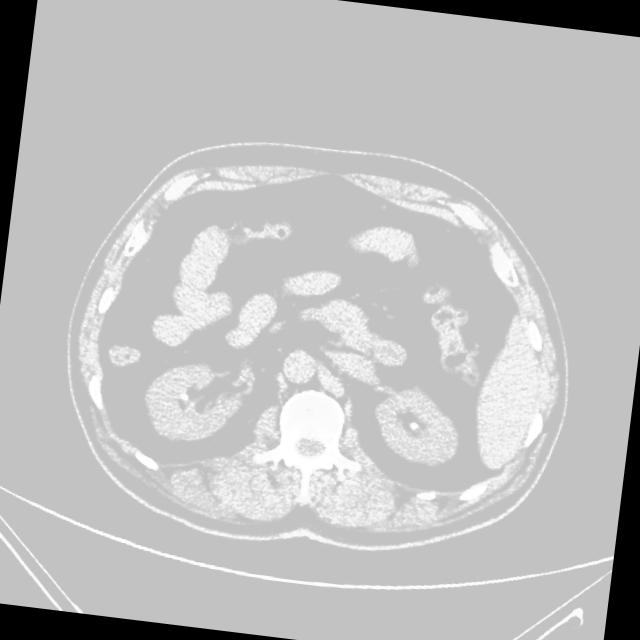STONE: (103, 243, 577, 510)
